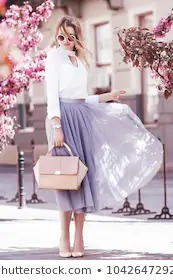S_blouse: (28, 46, 95, 120)
